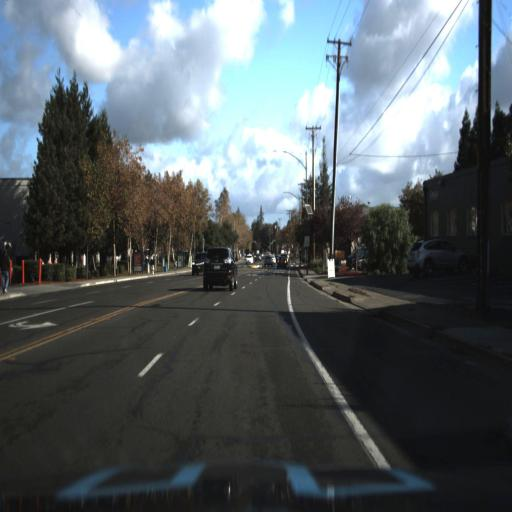car: (398, 229, 469, 283), (198, 237, 239, 295), (186, 247, 207, 279), (276, 253, 291, 274), (276, 254, 289, 271), (242, 252, 256, 266)
